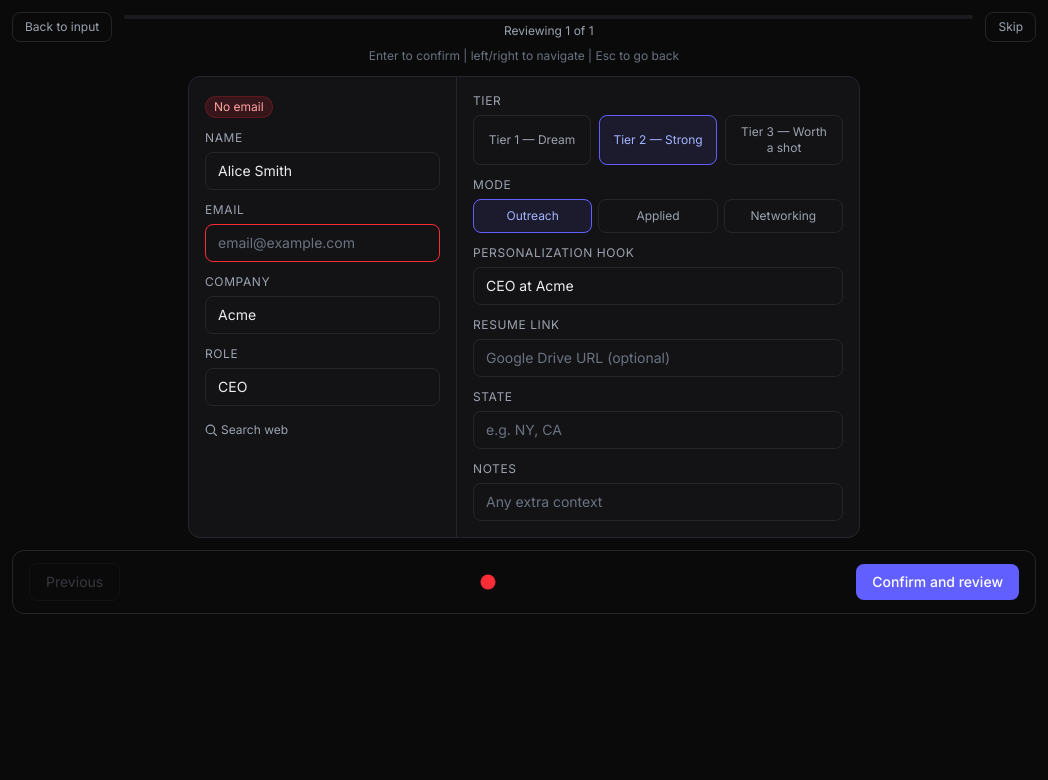
ReviewFlow — validation › blocks confirm with inline error when missing_email and email empty
What coordinates should you click on to do the following:
click the button "Confirm and review"
I would click on:
 (938, 582)
Its box is [856,564,1019,600].
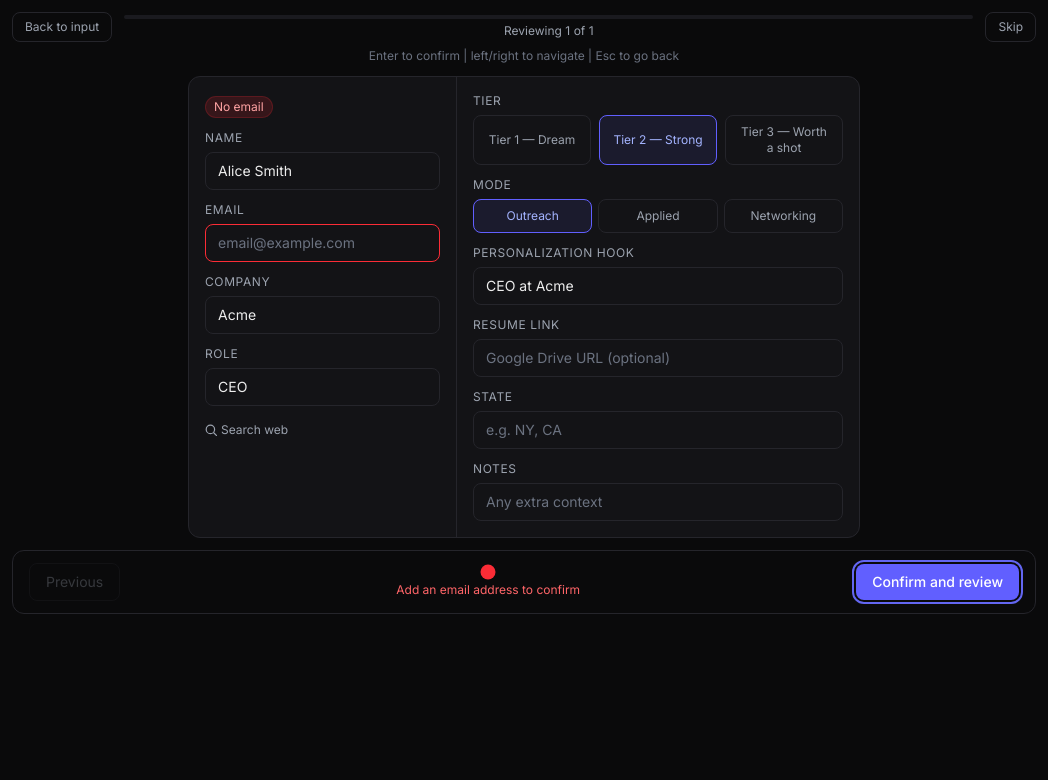
Now the text "Add an email address to confirm" is shown, box [396,582,580,598]
